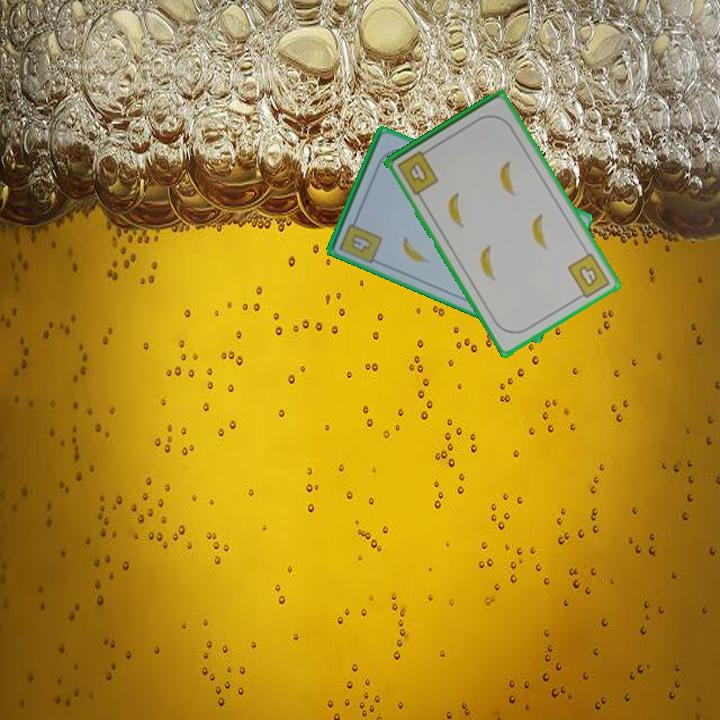4b: (564, 249, 613, 303), (393, 145, 442, 198), (336, 212, 385, 264)
